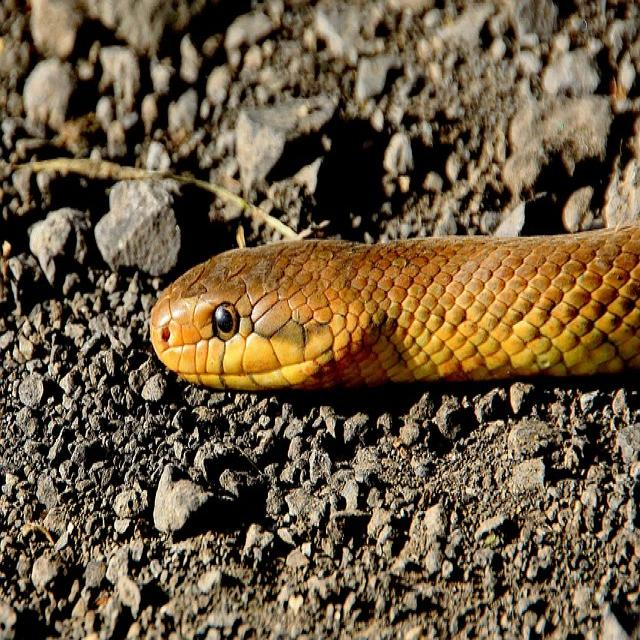Carnivorous: (147, 223, 640, 396)
